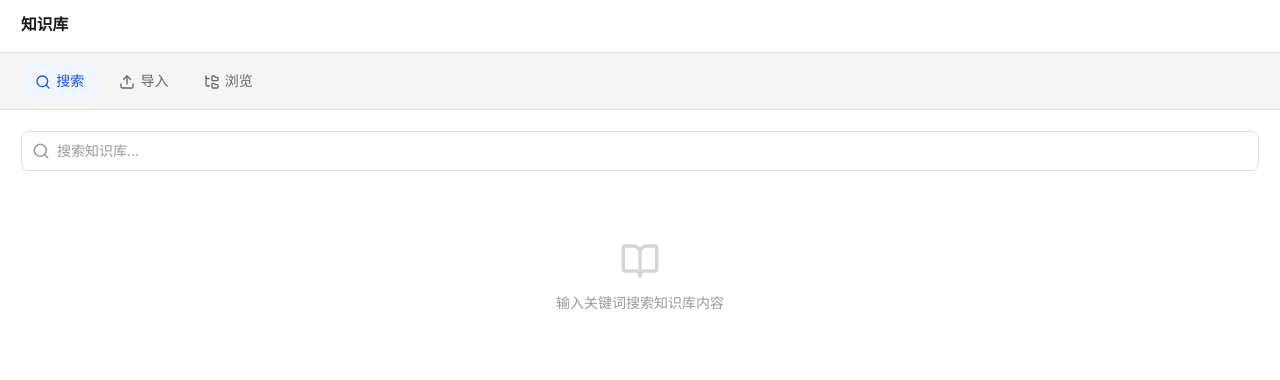
KnowledgePanel › shows suggestion chips after typing a partial query
The width and height of the screenshot is (1280, 380).
Type "架" into the field labelled "搜索知识库". click: (640, 151)
box: [21,130,1259,171]
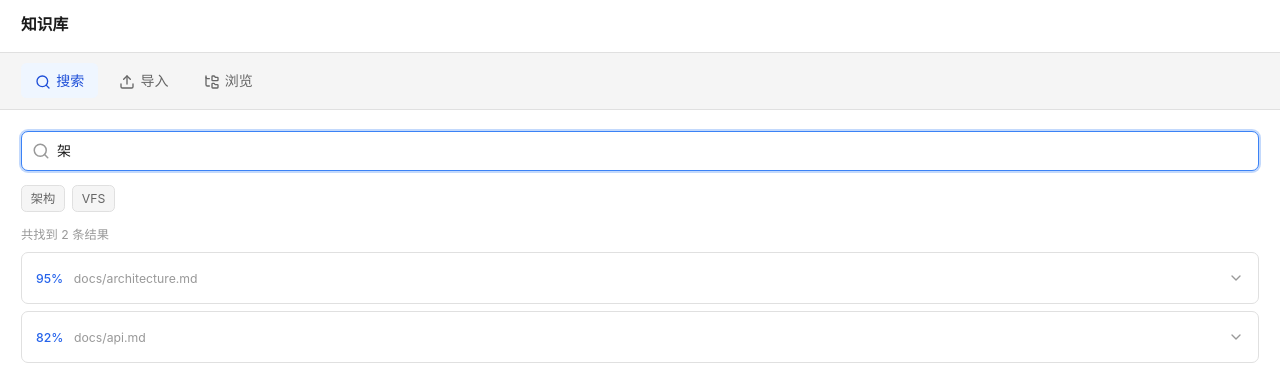
Result: the button "架构" is shown at [21,185,65,212]
Result: the button "VFS" is shown at [72,185,115,212]
